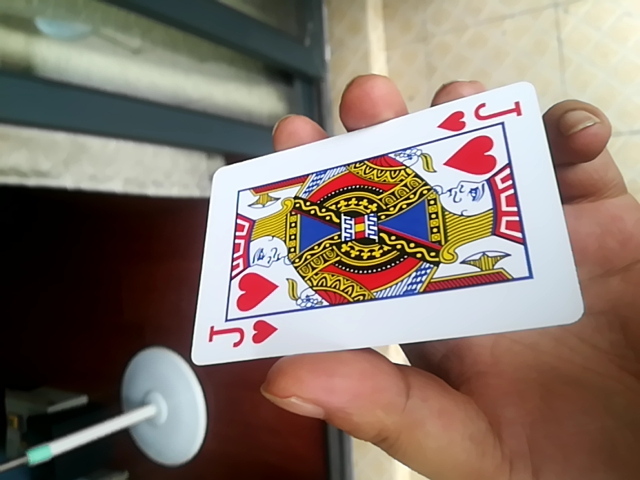hx j: (191, 82, 578, 371)
